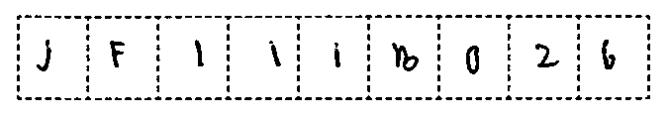0: (457, 40, 487, 80)
1: (259, 36, 291, 73), (181, 33, 210, 72), (319, 35, 348, 73)
2: (525, 40, 561, 74)
6: (590, 34, 620, 73)
B: (384, 36, 426, 78)
F: (104, 35, 133, 75)
J: (29, 34, 63, 78)
